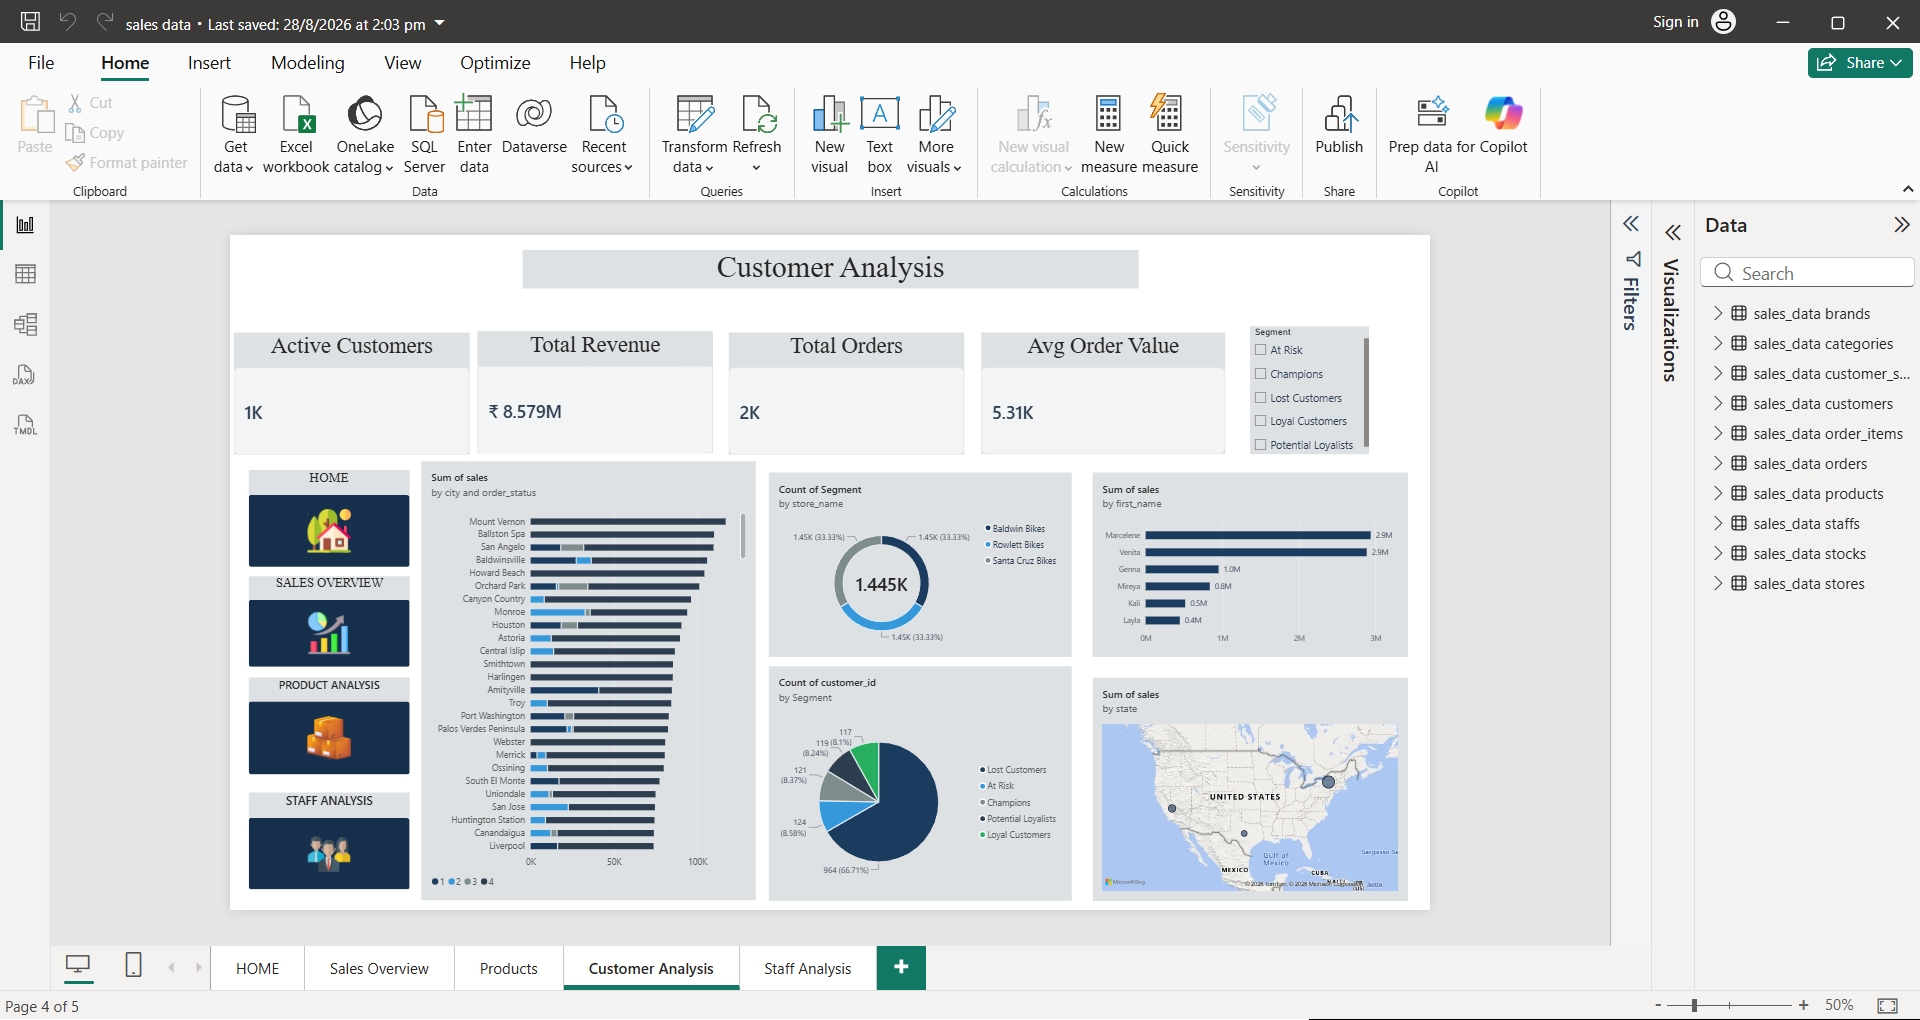

The page's visual inventory and layout, read from the dashboard file:
{"tool":"powerbi","page":{"name":"Customer Analysis","canvas":[1920,1080],"ordinal":3},"visuals":[{"type":"barChart","fields":{"Category":["sales_data customers.city"],"Series":["sales_data orders.order_status"],"Y":["Sum(sales_data order_items.sales)"]},"box":[305,362.5,535,702.5],"z":0},{"type":"map","fields":{"Category":["sales_data stores.state"],"Size":["Sum(sales_data order_items.sales)"]},"box":[1380,707.5,505,357.5],"z":1000},{"type":"donutChart","fields":{"Category":["sales_data stores.store_name"],"Y":["CountNonNull(sales_data customer_segments.Segment)"]},"box":[862.5,380,485,295],"z":2000},{"type":"slicer","fields":{"Values":["sales_data customer_segments.Segment"]},"box":[1632.5,145,190,205],"z":3000},{"type":"barChart","fields":{"Category":["sales_data staffs.first_name"],"Y":["Sum(sales_data order_items.sales)"]},"box":[1380,380,505,295],"z":4000},{"type":"pieChart","fields":{"Category":["sales_data customer_segments.Segment"],"Y":["CountNonNull(sales_data customer_segments.customer_id)"]},"box":[862.5,690,485,375],"z":5000},{"type":"textbox","box":[468,24,985.9,61.7],"z":6000},{"type":"cardVisual","title":"Active Customers","fields":{"Data":["sales_data order_items.Active Customers"]},"box":[5,155,377.5,195],"z":7000},{"type":"cardVisual","title":"Total Revenue","fields":{"Data":["sales_data order_items.Total Revenue"]},"box":[396,154,376.7,195.5],"z":8000},{"type":"cardVisual","title":"Total Orders","fields":{"Data":["sales_data order_items.total orders"]},"box":[798.6,156.4,376.7,195.5],"z":9000},{"type":"cardVisual","title":"Avg Order Value","fields":{"Data":["sales_data order_items.Avg Order Value"]},"box":[1202,156,390,194],"z":10000},{"type":"actionButton","title":"PRODUCT ANALYSIS","box":[30,707.5,257.5,155],"z":11000},{"type":"actionButton","title":"HOME","box":[30,375,257.5,155],"z":12000},{"type":"actionButton","title":"STAFF ANALYSIS","box":[30,892.5,257.5,155],"z":13000},{"type":"actionButton","title":"SALES OVERVIEW","box":[30,545,257.5,145],"z":13001}]}

Visuals, with their boxes on the page's 1920x1080 design canvas (x1, y1, x2, y2). These are canvas units, not pixel positions in the 1920x1020 screenshot, which may show the page scaled, cropped or inside an application window:
barChart - sales_data customers.city x sales_data orders.order_status: 305/362/840/1065
map - sales_data stores.state x Sum(sales_data order_items.sales): 1380/708/1885/1065
donutChart - sales_data stores.store_name x CountNonNull(sales_data customer_segments.Segment): 862/380/1348/675
slicer - sales_data customer_segments.Segment: 1632/145/1822/350
barChart - sales_data staffs.first_name x Sum(sales_data order_items.sales): 1380/380/1885/675
pieChart - sales_data customer_segments.Segment x CountNonNull(sales_data customer_segments.customer_id): 862/690/1348/1065
textbox: 468/24/1454/86
"Active Customers" cardVisual: 5/155/382/350
"Total Revenue" cardVisual: 396/154/773/350
"Total Orders" cardVisual: 799/156/1175/352
"Avg Order Value" cardVisual: 1202/156/1592/350
"PRODUCT ANALYSIS" actionButton: 30/708/288/862
"HOME" actionButton: 30/375/288/530
"STAFF ANALYSIS" actionButton: 30/892/288/1048
"SALES OVERVIEW" actionButton: 30/545/288/690
